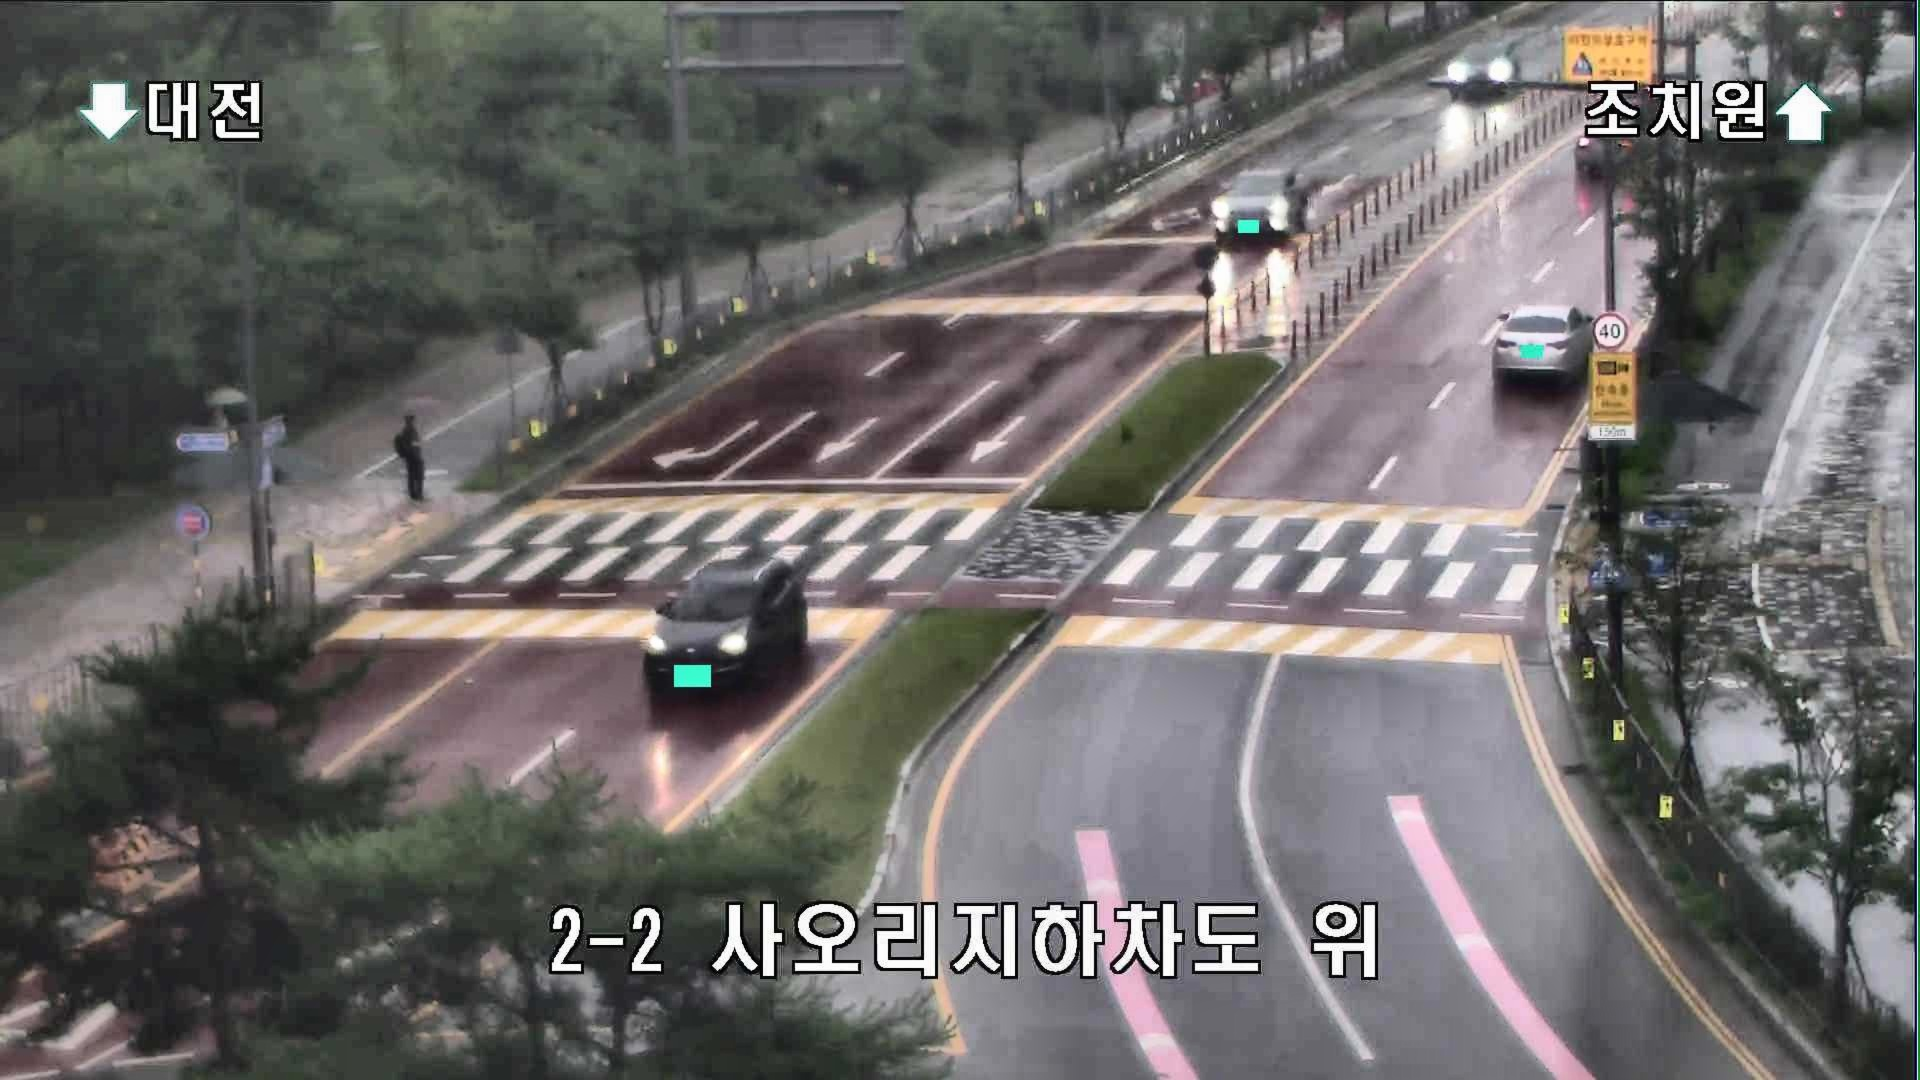um_sidewalk: (389, 396, 458, 505), (202, 384, 247, 479)
